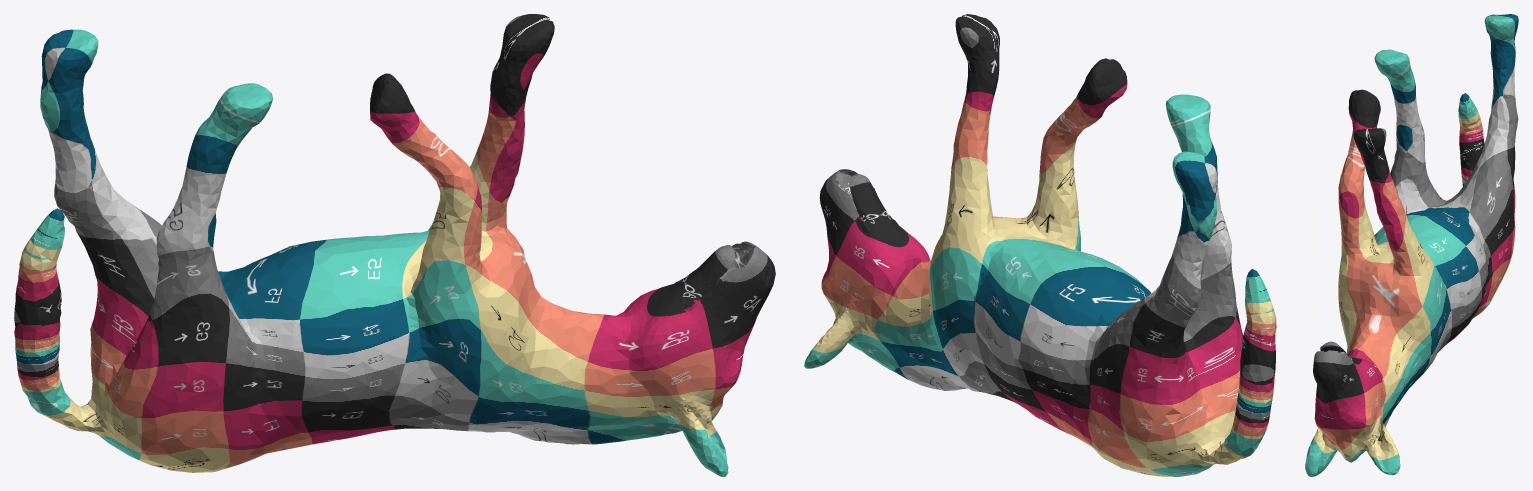
The model's file is hippo_01-horse_03.obj.
3 renders of one model, left to right at view 1: azimuth 30°, elevation 25°; view 2: azimuth 150°, elevation 25°; view 3: azimuth 270°, elevation 25°, orthographic. The views are drawn at different scales.
Visible parts, largest first — view 1: hippo_01-horse_03_export; view 2: hippo_01-horse_03_export; view 3: hippo_01-horse_03_export.
Part boxes in pixels (bbox=[...]): hippo_01-horse_03_export: bbox=[14, 14, 775, 476]; hippo_01-horse_03_export: bbox=[804, 14, 1276, 476]; hippo_01-horse_03_export: bbox=[1305, 14, 1518, 476].
Bounding box in the file's own units: 0.9635 × 0.6562 × 0.422.
